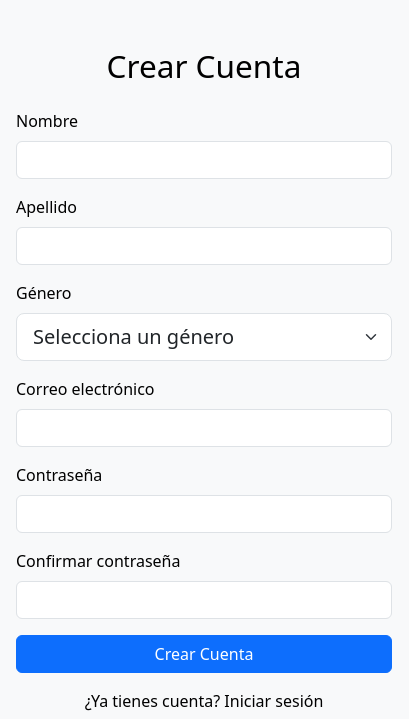
Componente Registro › muestra errores si los campos están vacíos al enviar
The width and height of the screenshot is (409, 719).
Click the button "Crear Cuenta" at coordinates (204, 654), box 16,635 -> 392,673
(page scrolled)
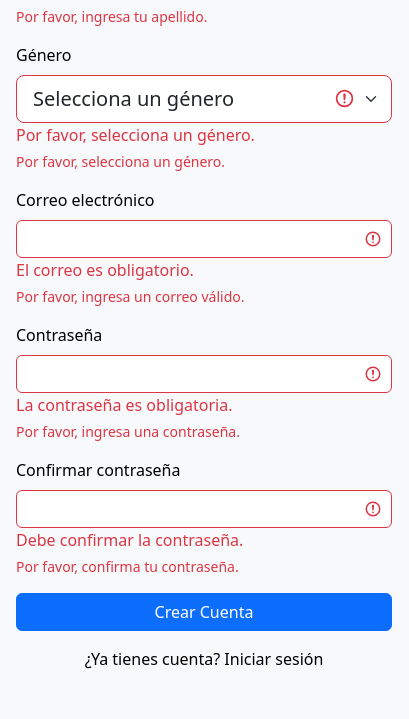
Now the 1st text "Por favor, selecciona un género." is shown, box 16,124 -> 255,146
Now the text "El correo es obligatorio." is shown, box 16,259 -> 194,281
Now the text "La contraseña es obligatoria." is shown, box 16,394 -> 232,416
